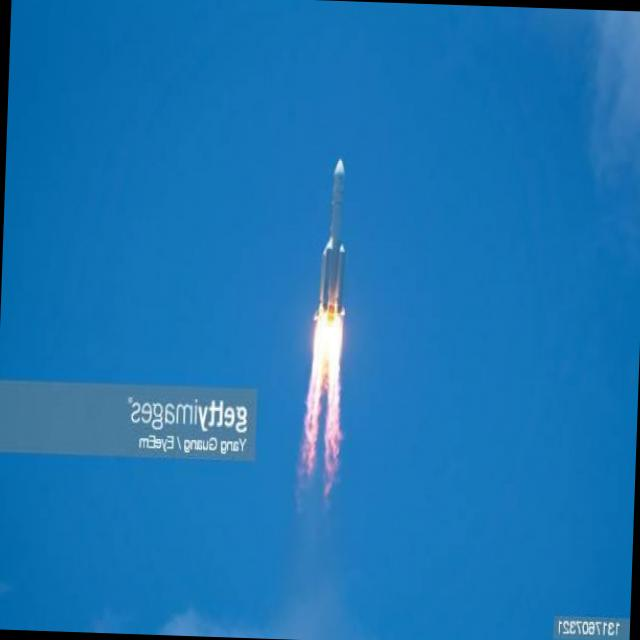rocket: (307, 149, 355, 483)
